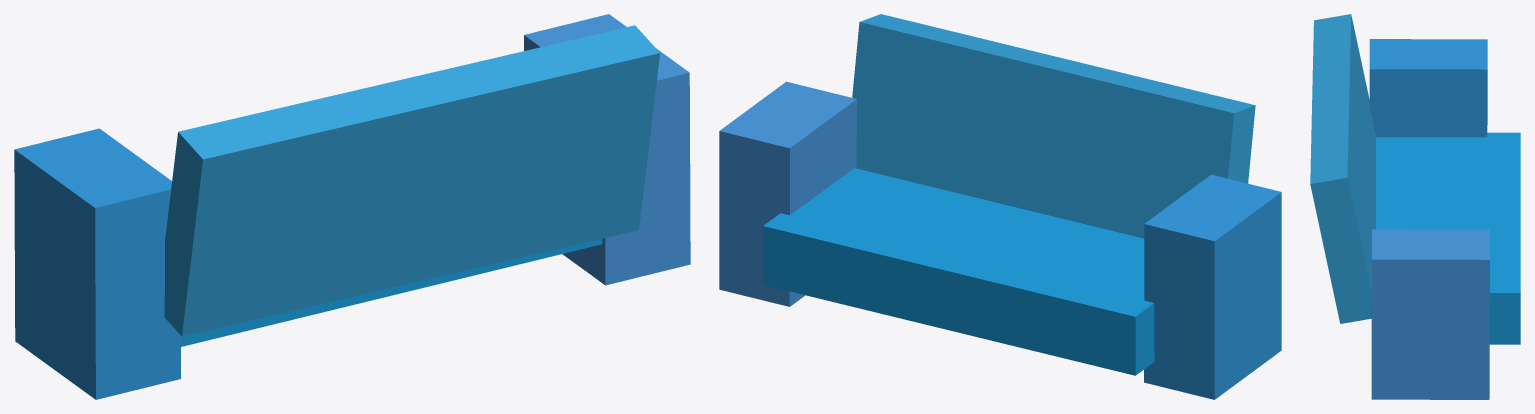
The model's file is sofa.gltf.
3 views of the same model, side by side, from view 1: azimuth 30°, elevation 25°; view 2: azimuth 150°, elevation 25°; view 3: azimuth 270°, elevation 25° (orthographic). The views are drawn at different scales.
Visible parts, largest first — view 1: Cube.006, Cube.005, Cube.001, Cube; view 2: Cube.006, Cube, Cube.005, Cube.001; view 3: Cube.001, Cube, Cube.006, Cube.005.
Part boxes in pixels (<box>): Cube.006: <box>164,25,659,336</box>; Cube.005: <box>14,128,180,399</box>; Cube.001: <box>524,14,690,285</box>; Cube: <box>181,239,602,346</box>; Cube.006: <box>852,14,1255,238</box>; Cube: <box>763,168,1154,375</box>; Cube.005: <box>1144,174,1281,399</box>; Cube.001: <box>719,81,856,306</box>; Cube.001: <box>1371,229,1489,399</box>; Cube: <box>1376,132,1520,344</box>; Cube.006: <box>1310,14,1376,323</box>; Cube.005: <box>1369,39,1487,137</box>.
Size of the model in its own units: 12.23 by 5.33 by 5.12.
